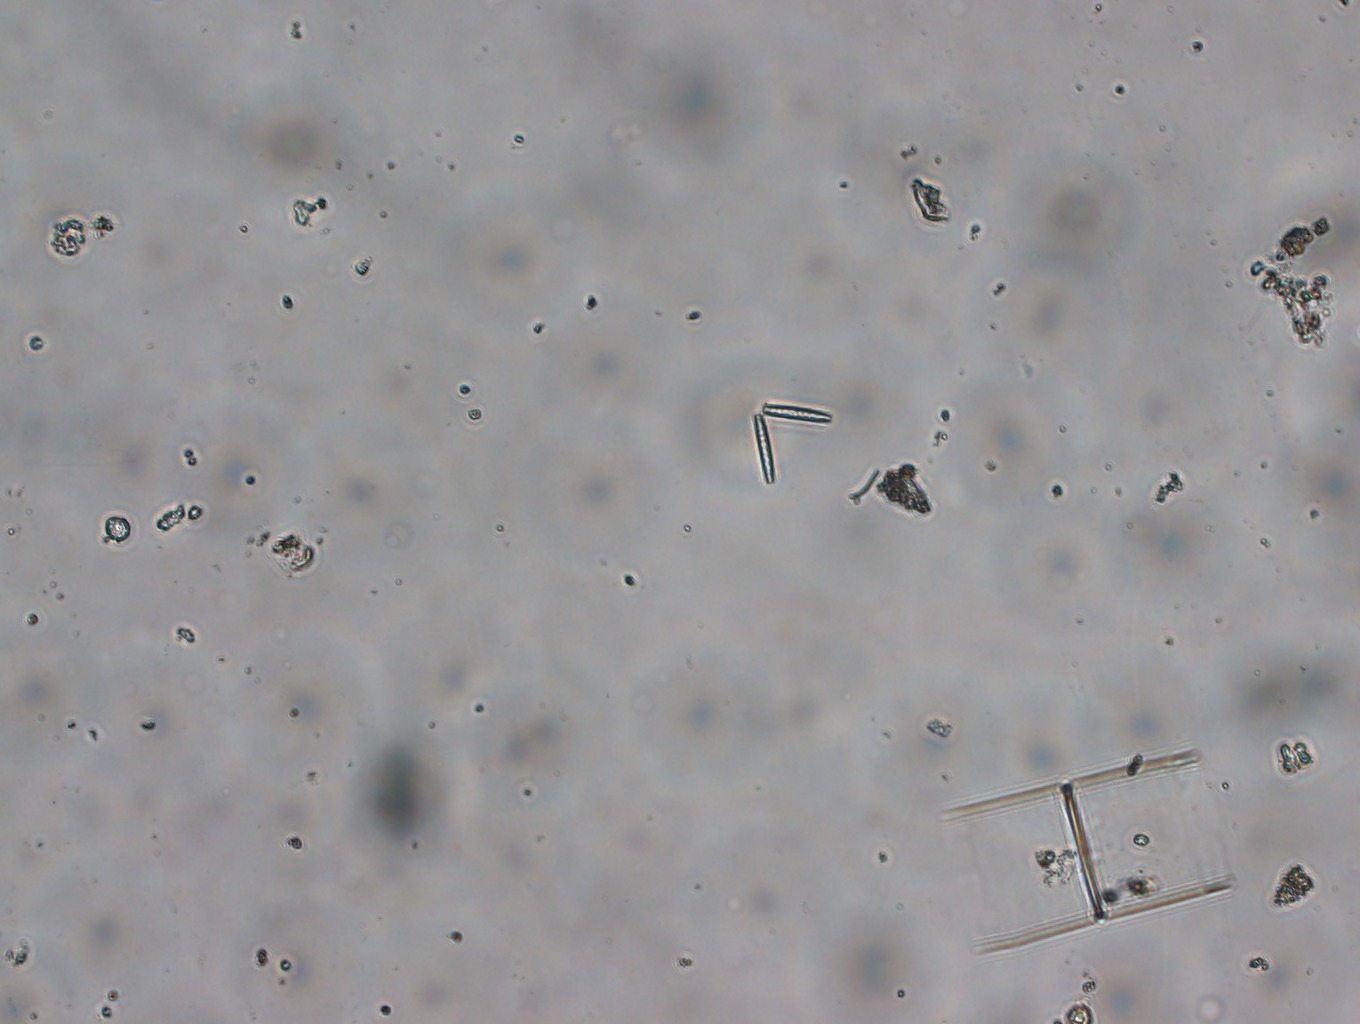guinardia flaccida: (930, 739, 1250, 966)
thalassionema nitzschioides: (743, 392, 842, 496)
